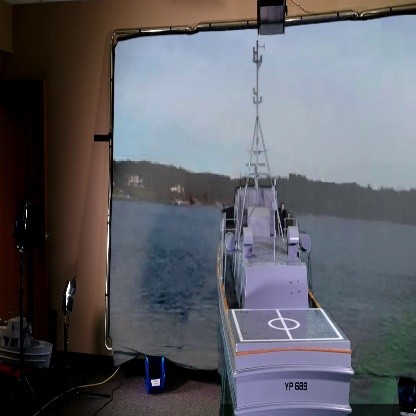YP689: (215, 48, 359, 416)
